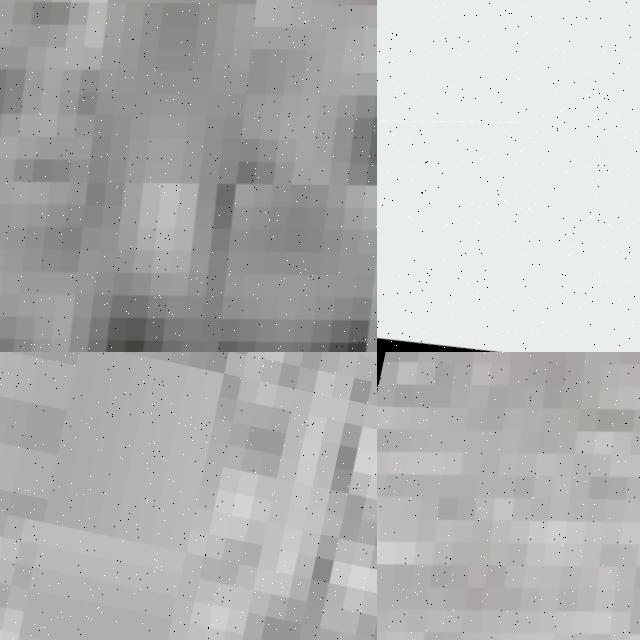drone: (0, 0, 377, 352), (377, 352, 640, 640), (377, 71, 640, 352)
